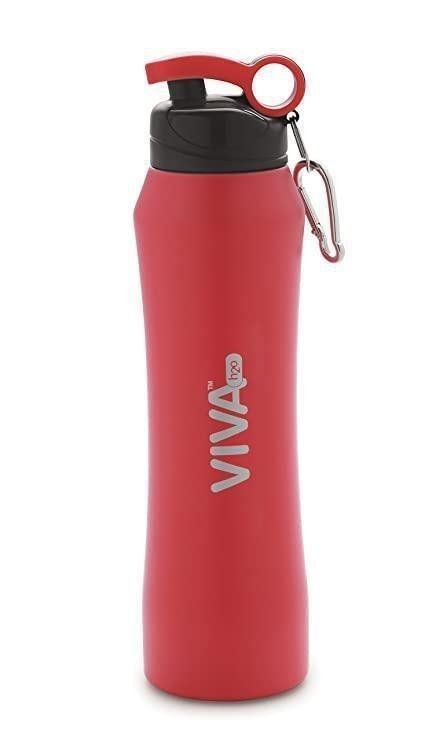gym bottle: (130, 51, 315, 705)
